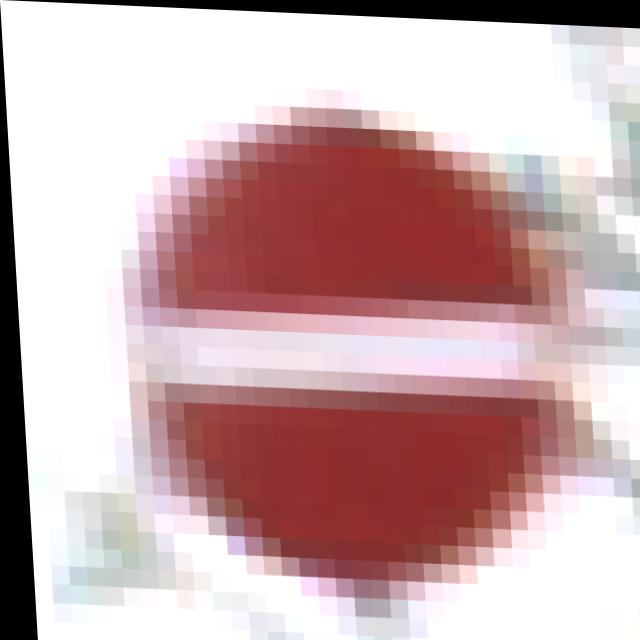road_rough: (106, 99, 624, 618)
